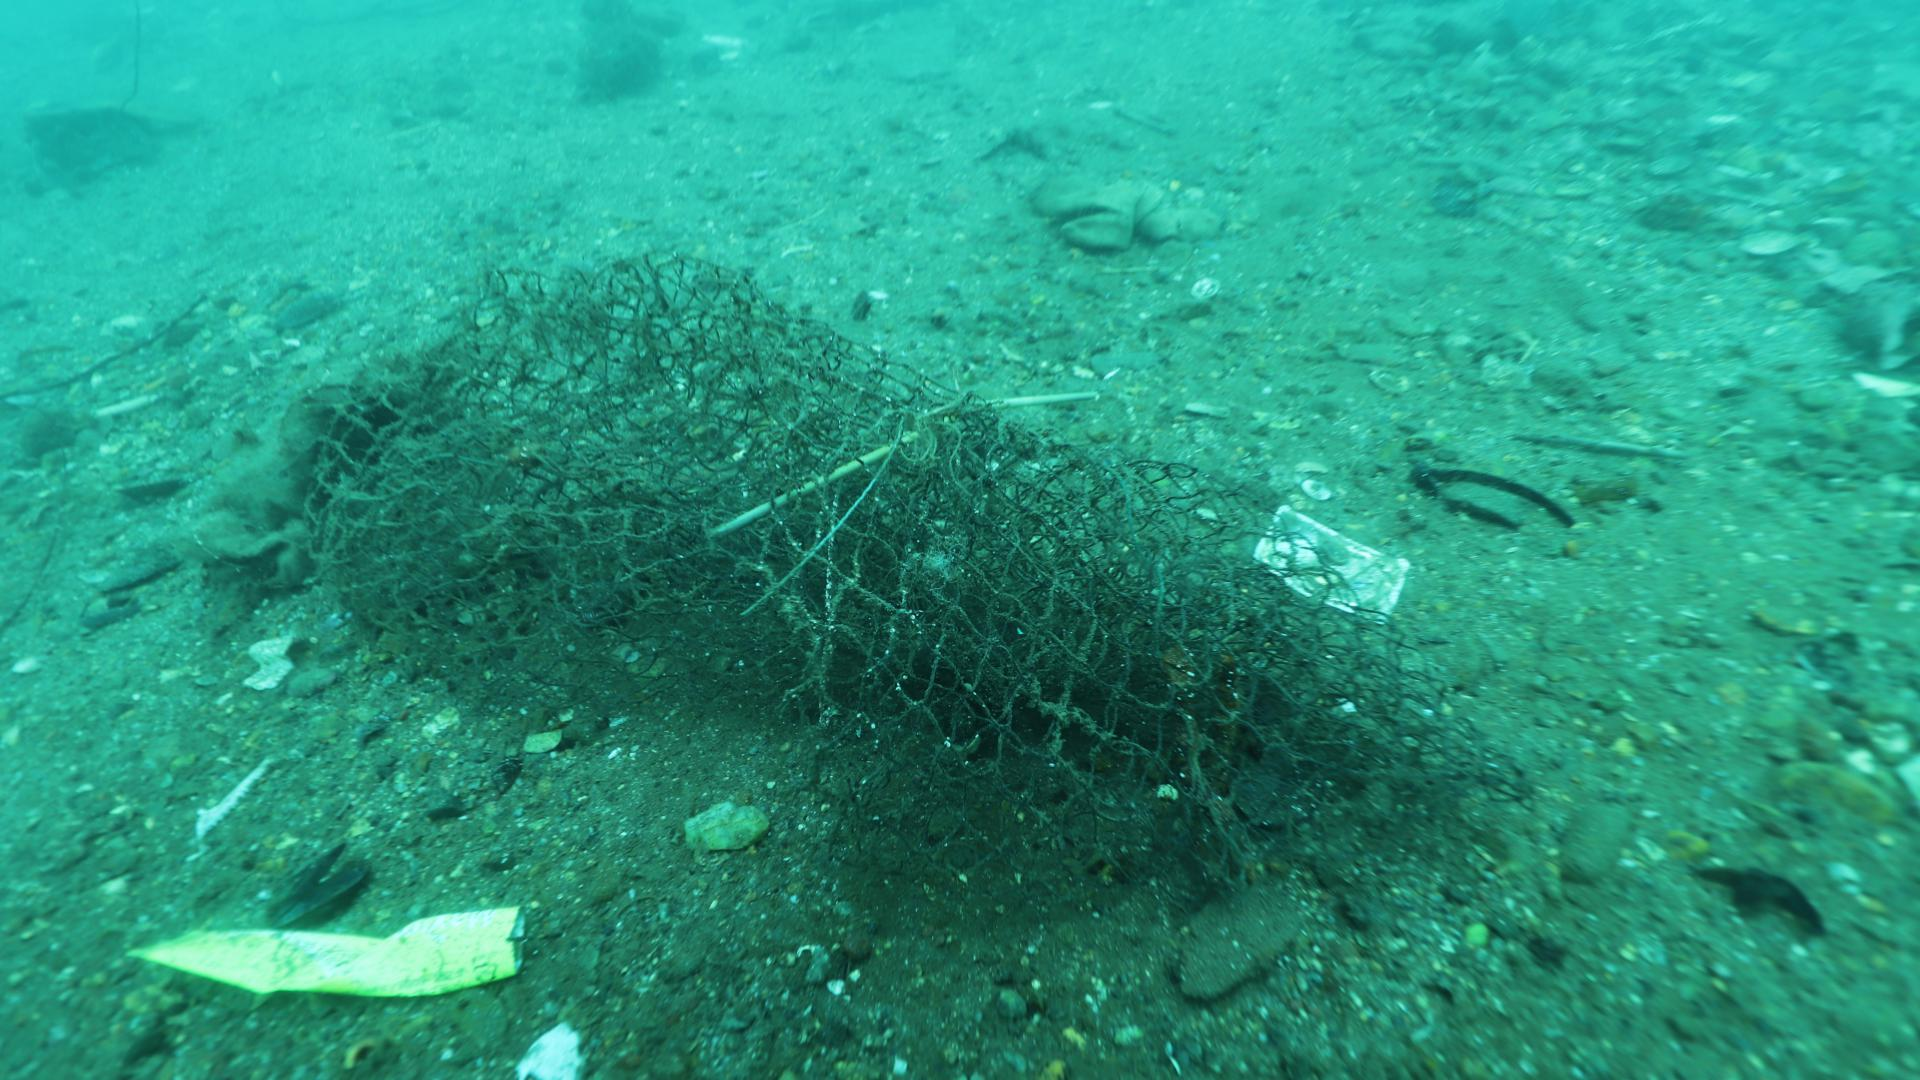fish net: (302, 251, 1480, 885)
